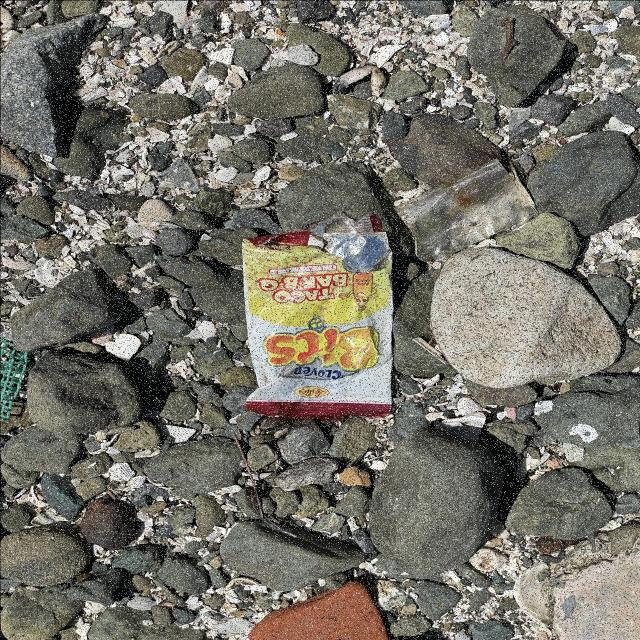plastic_waste: (243, 210, 396, 416), (399, 157, 539, 260)
